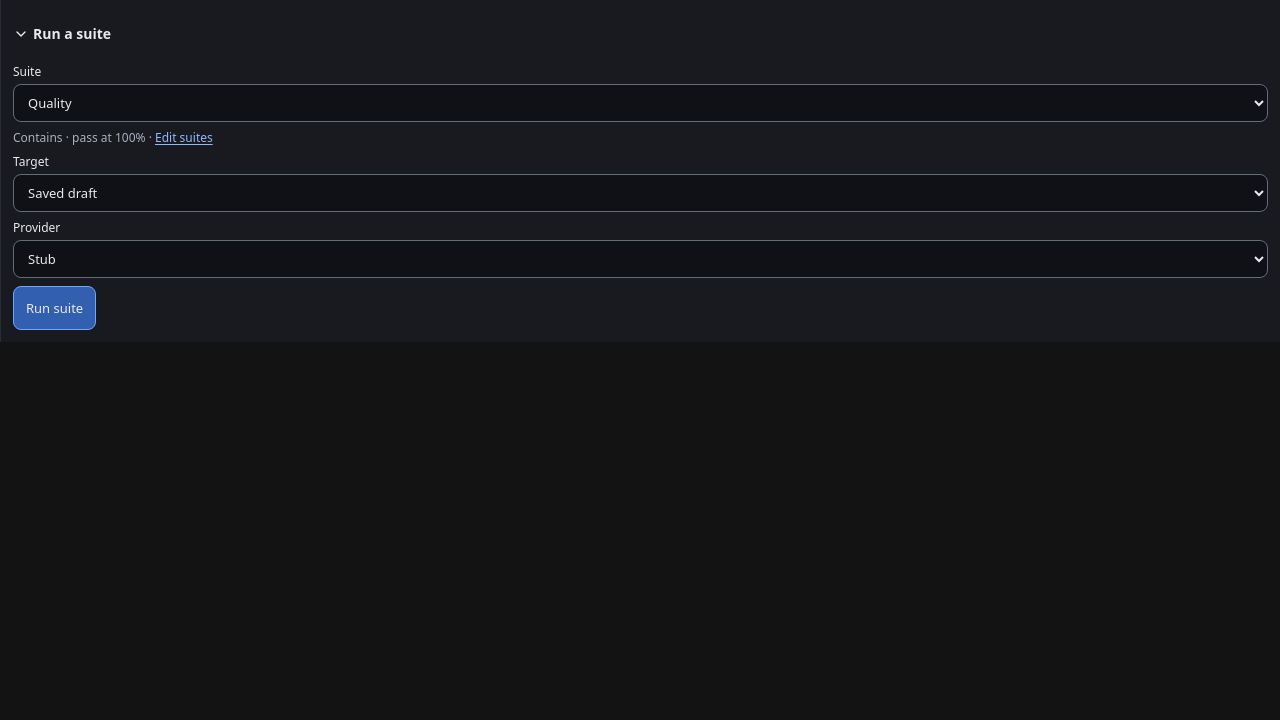
it: EvalsPanel › asks for a key and warns about cost on a live provider
The width and height of the screenshot is (1280, 720).
Select "Groq" in the dropdown labelled "Provider": point(640, 259) [13,240,1268,278]
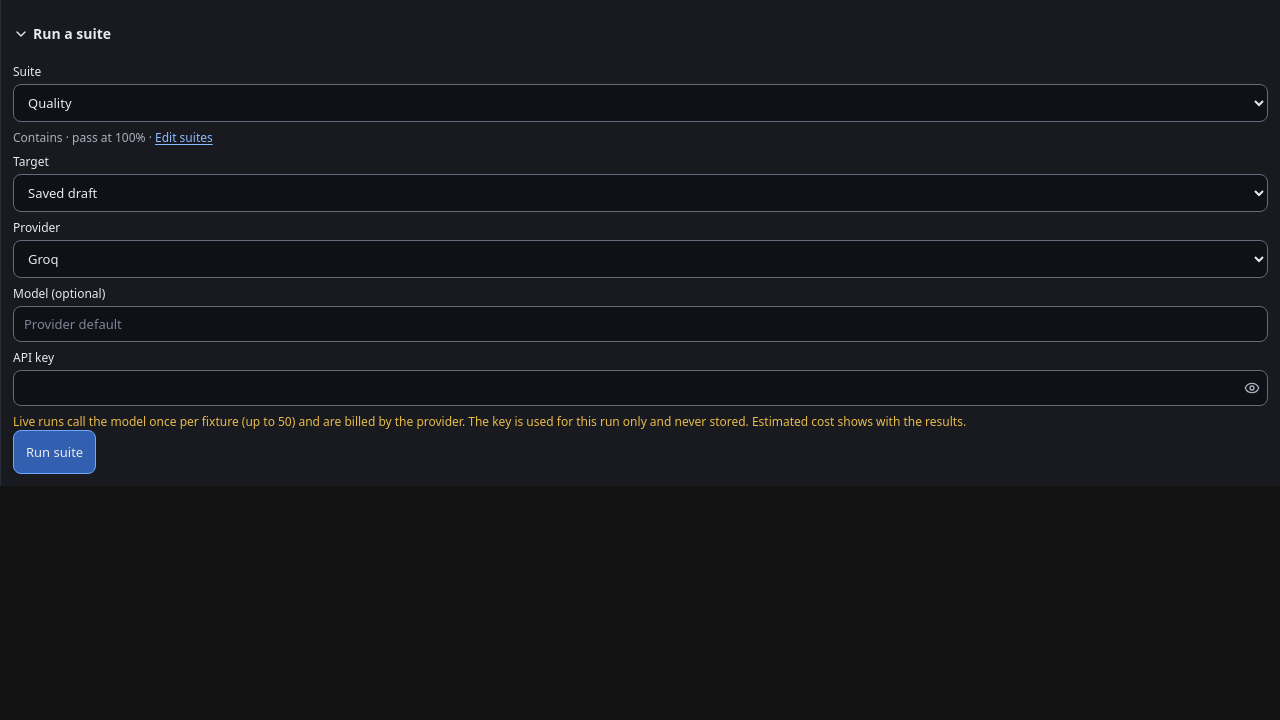
Expected: the text "billed by the provider" is shown, [13,413,966,430]
In the password field labelled "API key": point(640, 388) [13,370,1268,406], type " sk-1 "
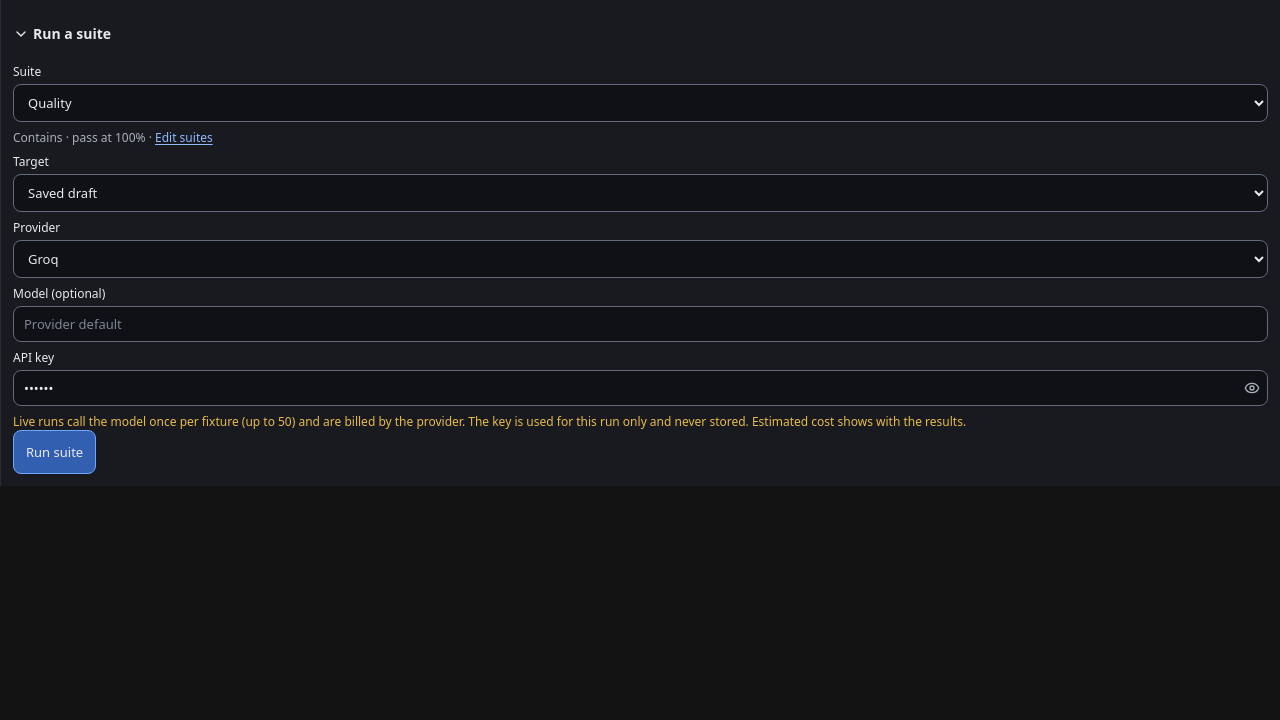
Click the button "Run suite": point(55, 452) [13,430,96,474]
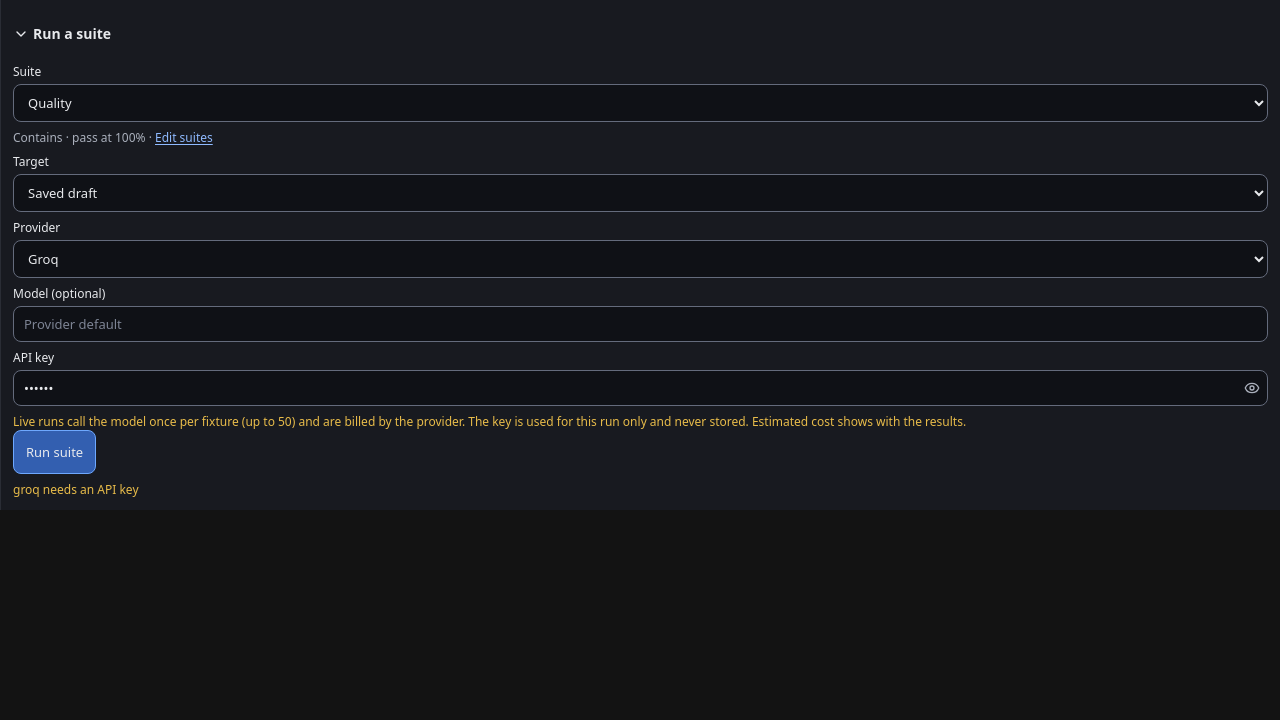
Expected: the message shows "needs an API key", [13,481,138,498]
